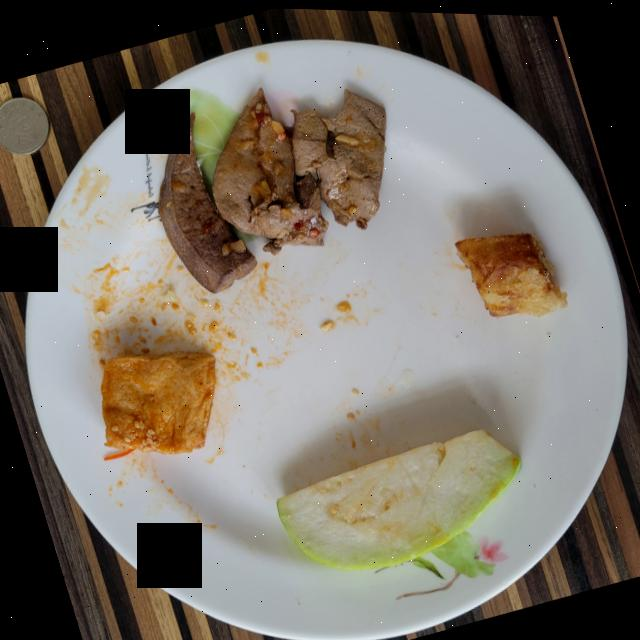coin: (0, 96, 49, 155)
creamy tofu: (100, 350, 215, 453)
fried potato: (455, 229, 567, 313)
guava -sliced-: (276, 426, 521, 568)
pig liver: (158, 87, 386, 291)
